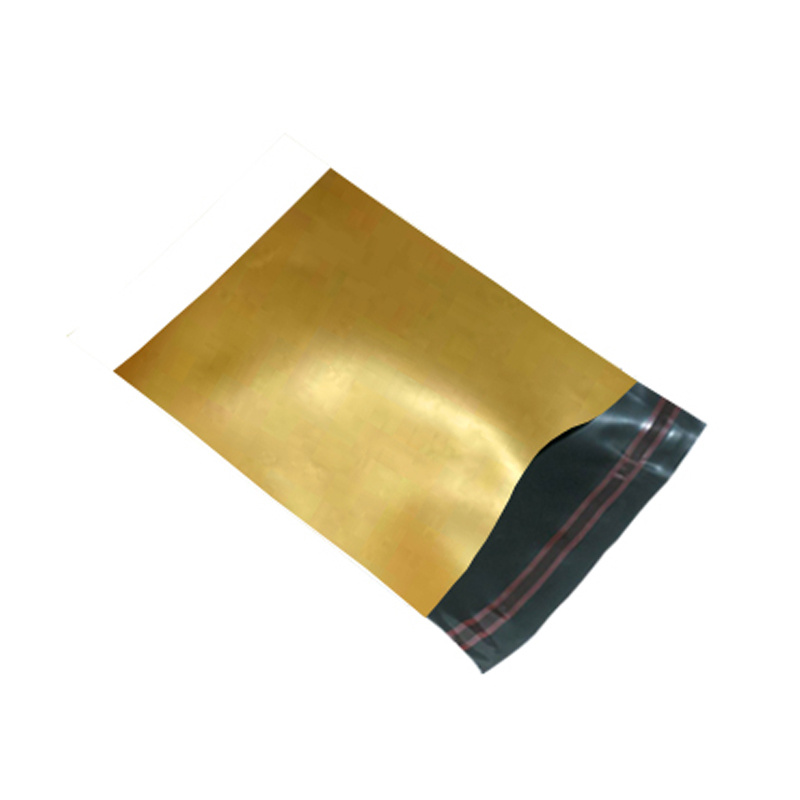塑料袋: (117, 171, 704, 672)
